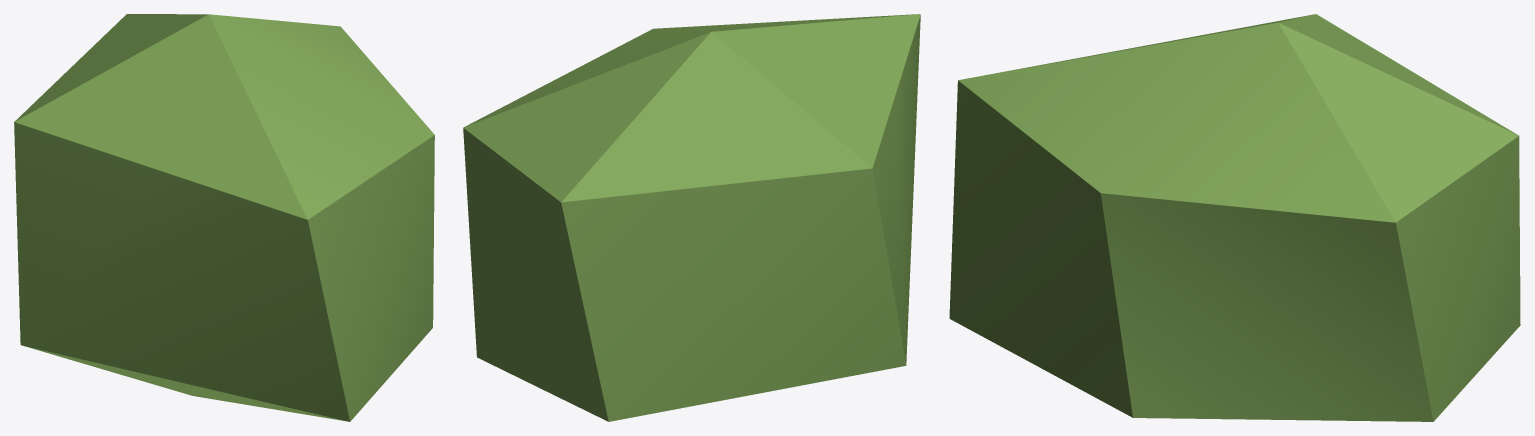
File: Bush_Small_03.fbx
3 renders of one model, left to right at view 1: azimuth 30°, elevation 25°; view 2: azimuth 150°, elevation 25°; view 3: azimuth 270°, elevation 25°, orthographic. The views are drawn at different scales.
Visible parts, largest first — view 1: Model; view 2: Model; view 3: Model.
Part boxes in pixels (box(x1,y1,x2,y2)): Model: box(14, 14, 434, 421); Model: box(463, 14, 920, 421); Model: box(949, 14, 1520, 421).
Bounding box in the file's own units: 384 × 339 × 479.
